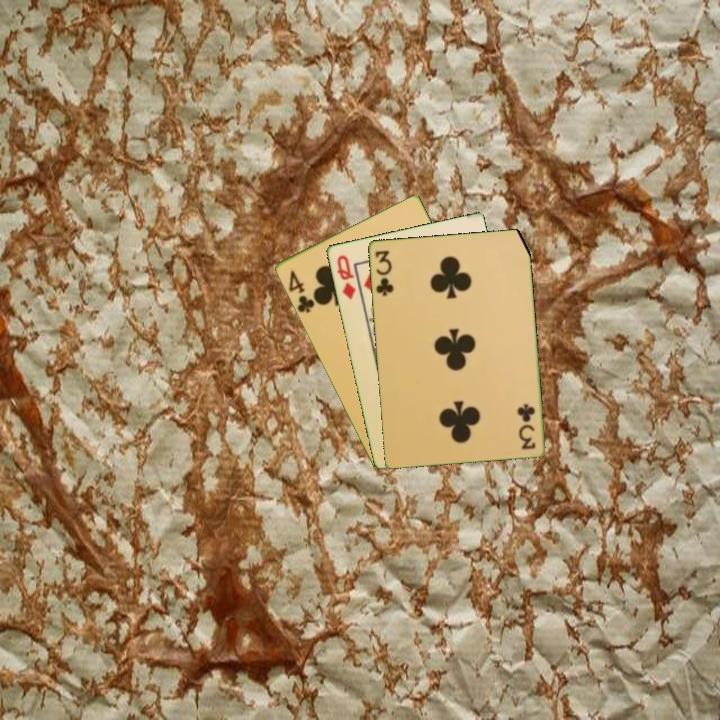3c: (371, 247, 396, 299), (515, 400, 538, 452)
4c: (285, 266, 317, 316)
Qd: (333, 251, 358, 302)
